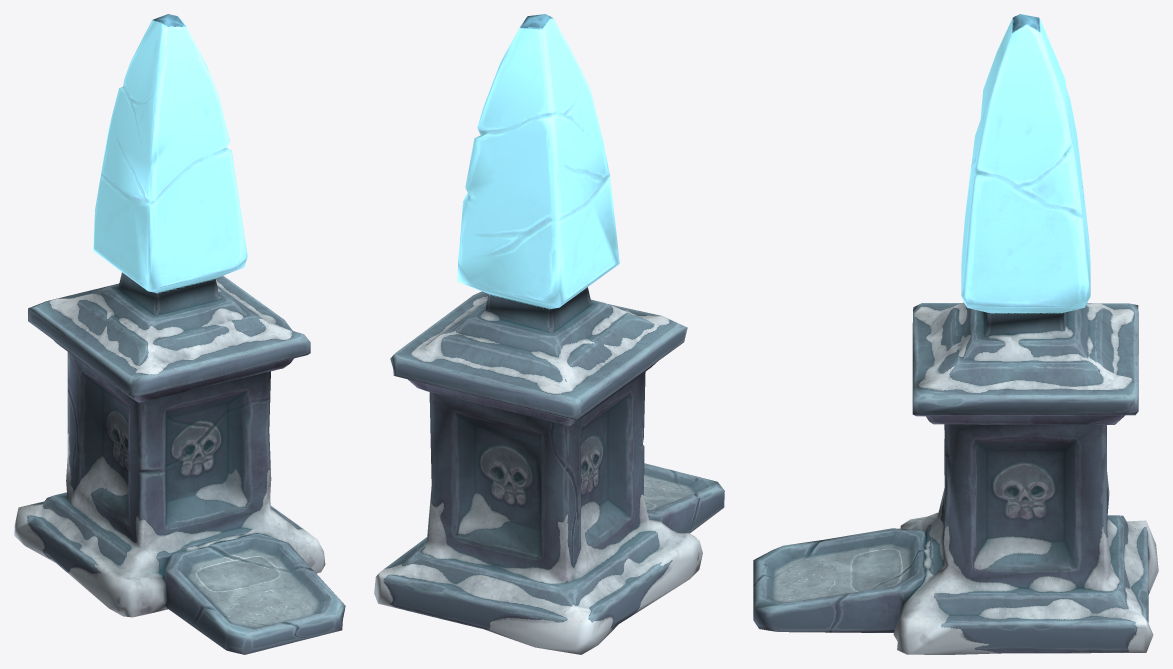
File: crystal_tombstone.fbx
3 views of the same model, side by side, from view 1: azimuth 30°, elevation 25°; view 2: azimuth 150°, elevation 25°; view 3: azimuth 270°, elevation 25° (orthographic). The views are drawn at different scales.
Visible parts, largest first — view 1: Cube_002_001; view 2: Cube_002_001; view 3: Cube_002_001.
Boxes of the visible parts, x1,y1,x2,y2 form: Cube_002_001: (14,14,345,654); Cube_002_001: (374,14,724,654); Cube_002_001: (753,14,1158,654).
Size of the model in its own units: 211 by 527 by 330.
